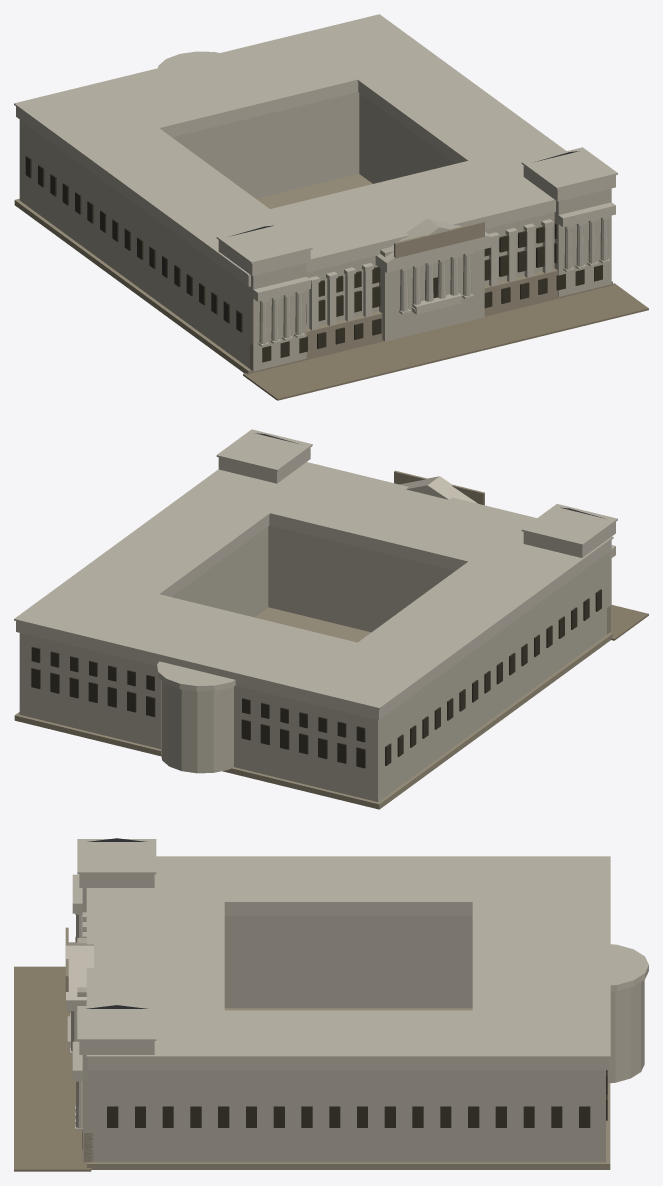
Rendered from buckingham_palace.glb.
The picture shows the model from 3 angles, top to bottom: view 1: azimuth 30°, elevation 25°; view 2: azimuth 150°, elevation 25°; view 3: azimuth 270°, elevation 25°; orthographic projection. The views are drawn at different scales.
Visible parts, largest first — view 1: buckingham_palace; view 2: buckingham_palace; view 3: buckingham_palace.
Part boxes in pixels (box(x1,y1,x2,y2)): buckingham_palace: box(14, 14, 648, 400); buckingham_palace: box(14, 429, 648, 809); buckingham_palace: box(14, 838, 648, 1171).
Size of the model in its own units: 112 by 38.2 by 148.
